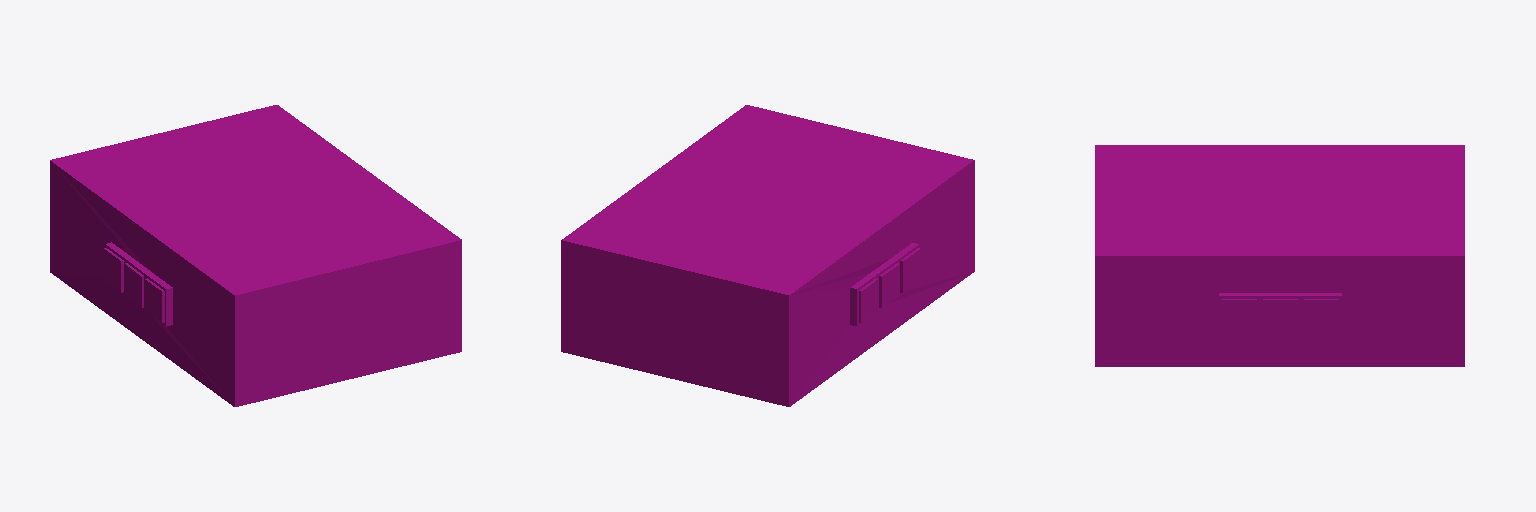
File: roomWithWindows.obj
3 views of the same model, side by side, from view 1: azimuth 30°, elevation 25°; view 2: azimuth 150°, elevation 25°; view 3: azimuth 270°, elevation 25° (orthographic).
Visible parts, largest first — view 1: Box001; view 2: Box001; view 3: Box001.
Boxes of the visible parts, <box> form: Box001: <box>50,105,461,406</box>; Box001: <box>561,105,974,406</box>; Box001: <box>1095,145,1464,366</box>.
Bounding box in the file's own units: 92.2 × 40 × 120.